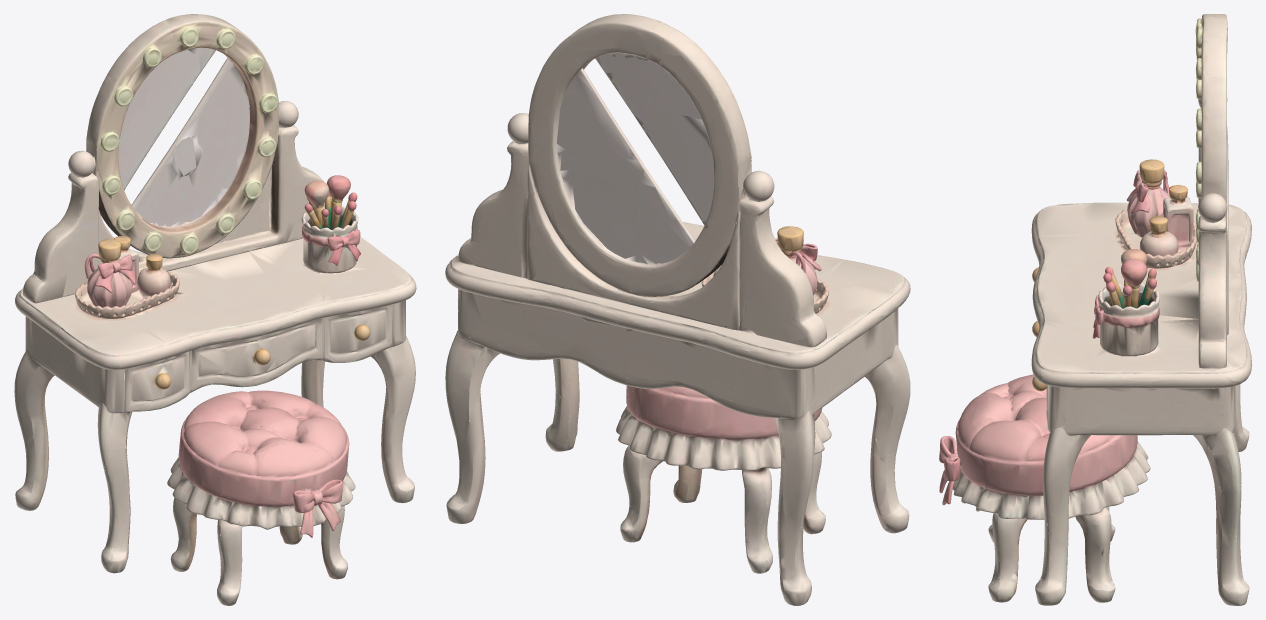
File: vanity.glb
3 renders of one model, left to right at view 1: azimuth 30°, elevation 25°; view 2: azimuth 150°, elevation 25°; view 3: azimuth 270°, elevation 25°, orthographic. The views are drawn at different scales.
Visible parts, largest first — view 1: tripo_node_27a1b81a-c4d4-45a6-9ca0-8ac833fd6aad; view 2: tripo_node_27a1b81a-c4d4-45a6-9ca0-8ac833fd6aad; view 3: tripo_node_27a1b81a-c4d4-45a6-9ca0-8ac833fd6aad.
Boxes of the visible parts, x1,y1,x2,y2 form: tripo_node_27a1b81a-c4d4-45a6-9ca0-8ac833fd6aad: [14, 14, 416, 605]; tripo_node_27a1b81a-c4d4-45a6-9ca0-8ac833fd6aad: [445, 14, 910, 605]; tripo_node_27a1b81a-c4d4-45a6-9ca0-8ac833fd6aad: [939, 14, 1251, 605].
Size of the model in its own units: 0.6693 by 0.979 by 0.5085.
1 material, 1 textured.
